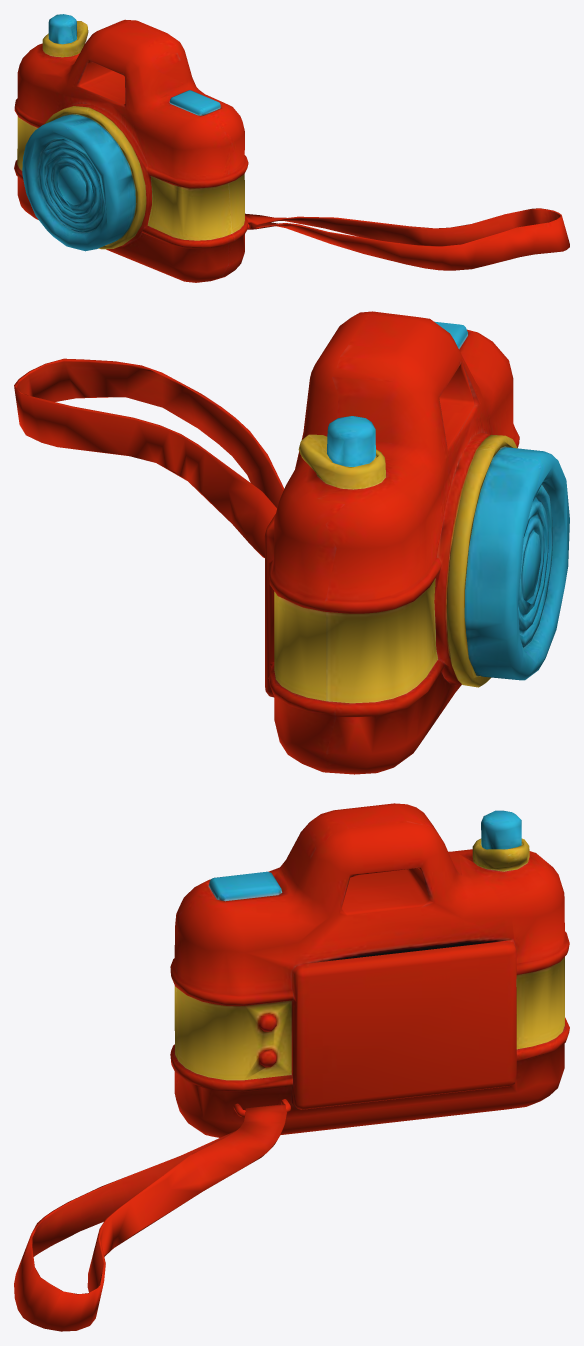
File: fotik.fbx
3 views of the same model, one above another, from view 1: azimuth 30°, elevation 25°; view 2: azimuth 150°, elevation 25°; view 3: azimuth 270°, elevation 25° (orthographic). The views are drawn at different scales.
Visible parts, largest first — view 1: photik; view 2: photik; view 3: photik.
Part boxes in pixels (bbox=[...]): photik: bbox=[14, 14, 569, 282]; photik: bbox=[14, 311, 569, 774]; photik: bbox=[14, 803, 569, 1331].
Size of the model in its own units: 26.45 by 12.7 by 21.6.
